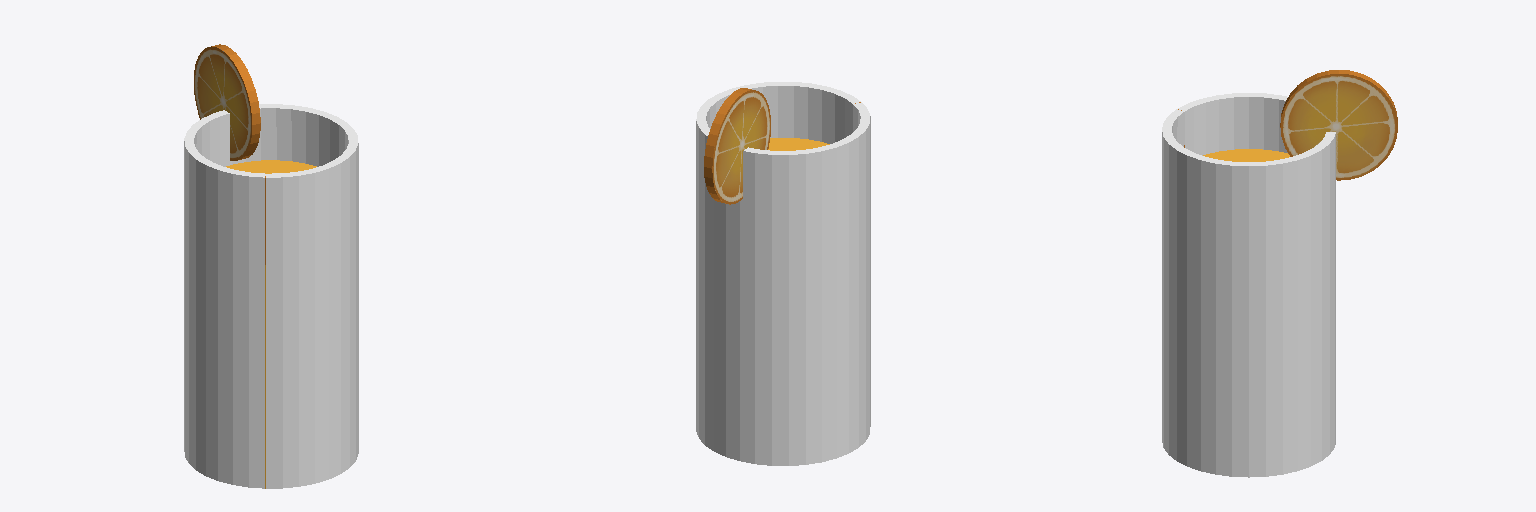
The picture shows the model from 3 angles: view 1: azimuth 30°, elevation 25°; view 2: azimuth 150°, elevation 25°; view 3: azimuth 270°, elevation 25°; orthographic projection.
Parts seen in each view (by area): view 1: Cylinder, Cylinder.002, Cylinder.001; view 2: Cylinder, Cylinder.002, Cylinder.001; view 3: Cylinder, Cylinder.002, Cylinder.001.
Boxes of the visible parts, box(x1,y1,x2,y2) form: Cylinder: box(184, 104, 358, 488); Cylinder.002: box(194, 44, 260, 160); Cylinder.001: box(226, 160, 316, 173); Cylinder: box(696, 82, 870, 465); Cylinder.002: box(704, 88, 770, 204); Cylinder.001: box(768, 138, 829, 150); Cylinder: box(1162, 93, 1335, 477); Cylinder.002: box(1280, 70, 1397, 180); Cylinder.001: box(1203, 149, 1289, 161).
Bounding box in the file's own units: 0.178 × 0.4156 × 0.2409.
Materials: 3 (1 with a texture image).